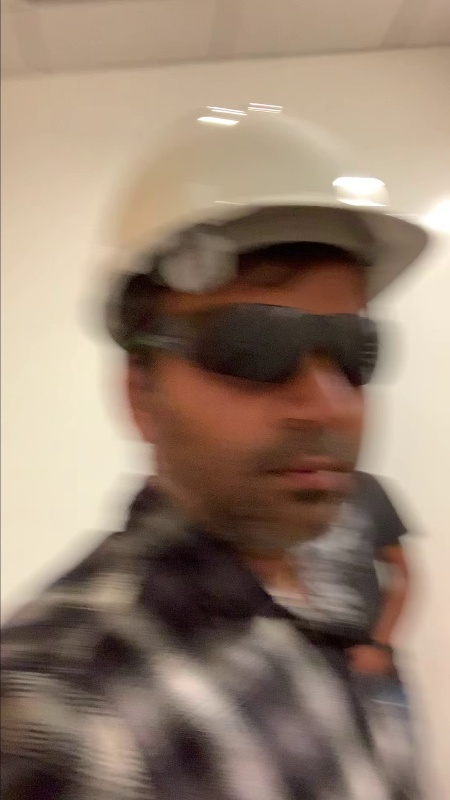glasses: (177, 299, 391, 377), (169, 305, 375, 381)
helmet: (113, 99, 417, 222)
